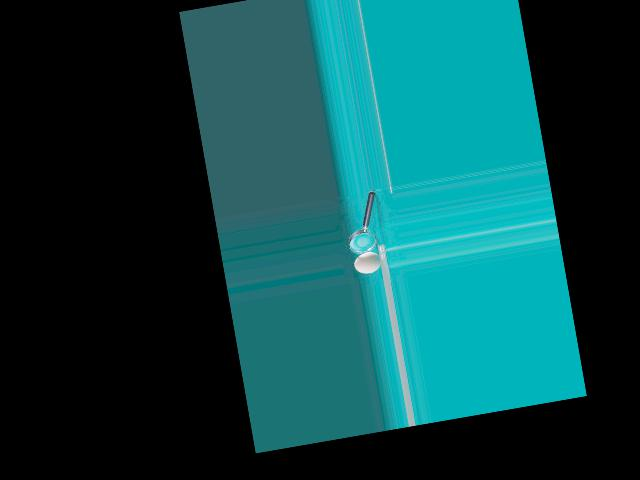egg: (352, 250, 382, 276)
